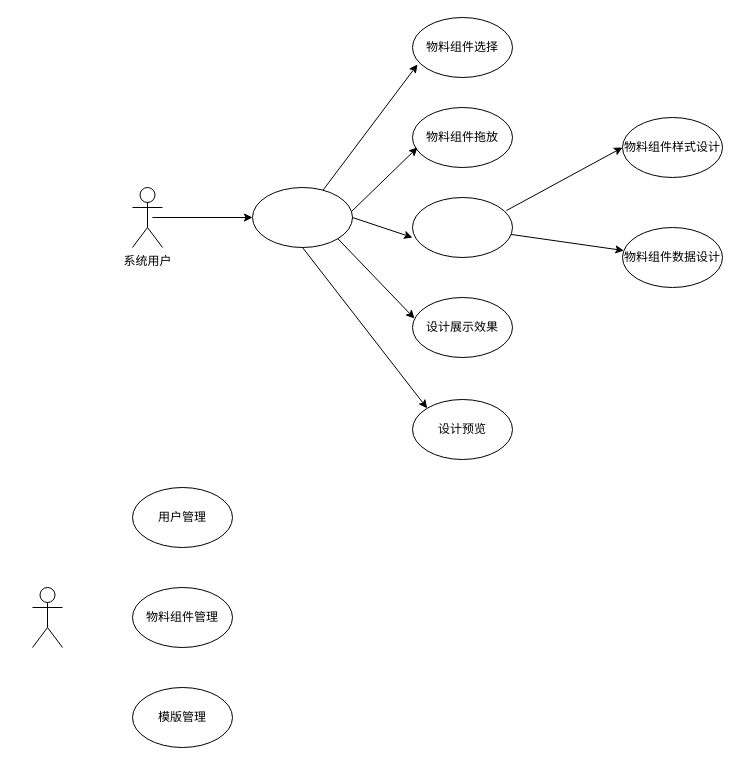
This 740x765 diagram has some shape labels left out. The shapes that lost their labels are listed below. From the top down, each one's centre as x and y in pixels, then its label:
the point at 302,217: H5活动页面设计
the point at 462,227: 物料组件属性设计
the point at 47,617: 系统管理员
